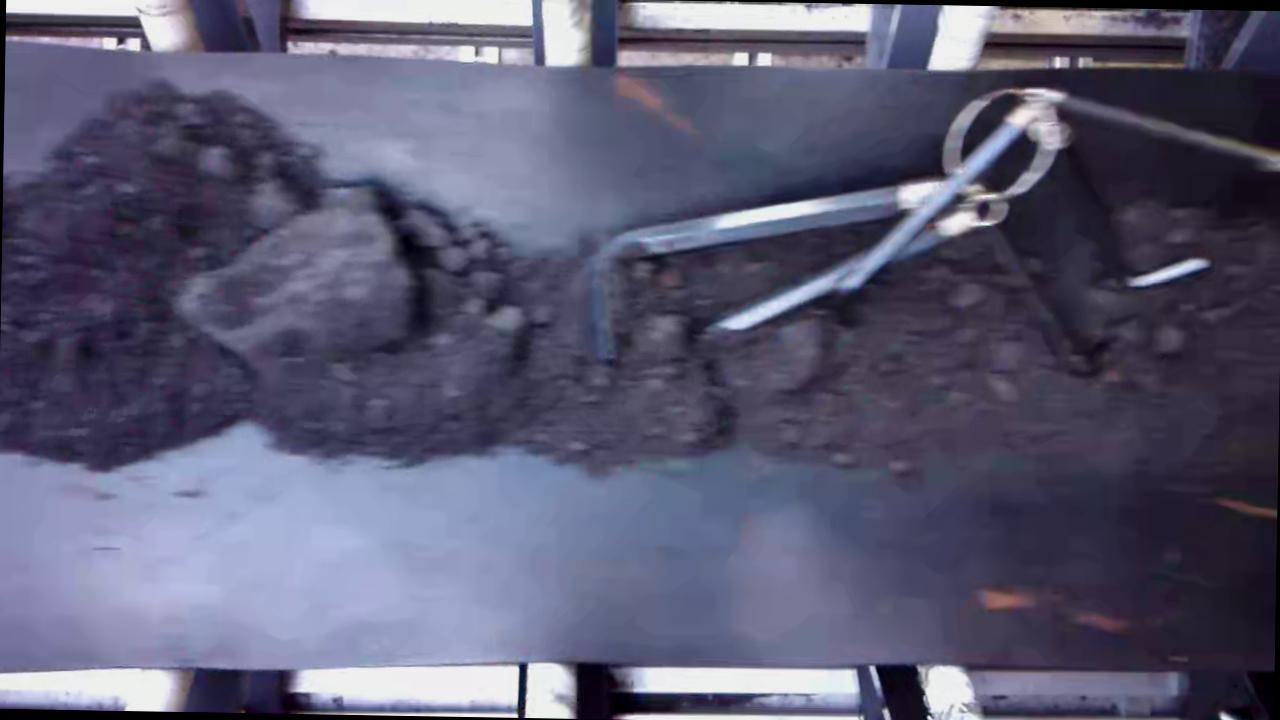conveyor: (13, 74, 1274, 653)
